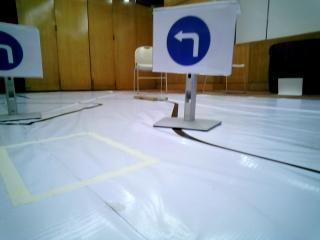left: (158, 14, 226, 71)
